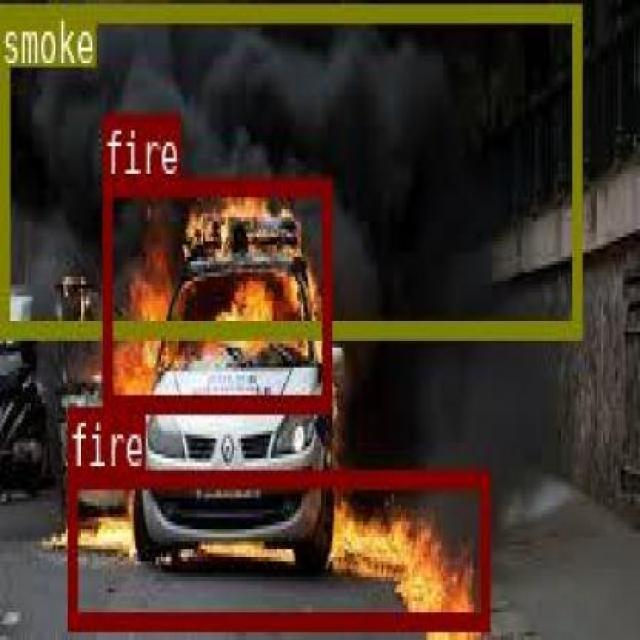Fire: (66, 466, 488, 628), (102, 176, 330, 409)
Smoke: (0, 1, 578, 333)
